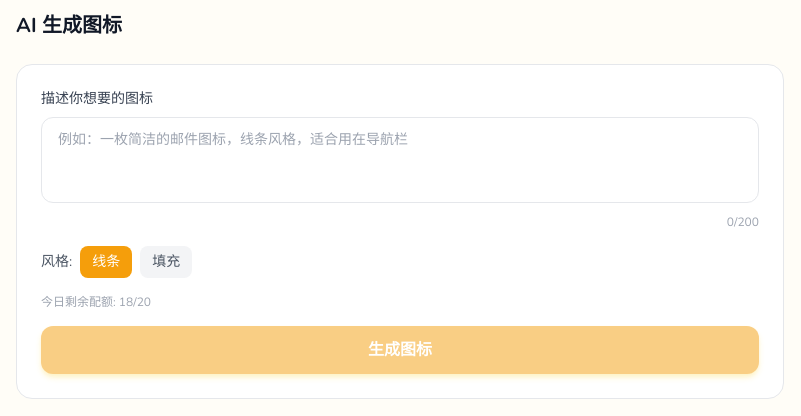
Test: AiGeneratePage › shows character count
The width and height of the screenshot is (801, 416).
Type "abc" into the text box with placeholder "例如：一枚简洁的邮件图标，线条风格，适合用在导航栏".
click(400, 160); type("abc")  # box [41,117,759,203]
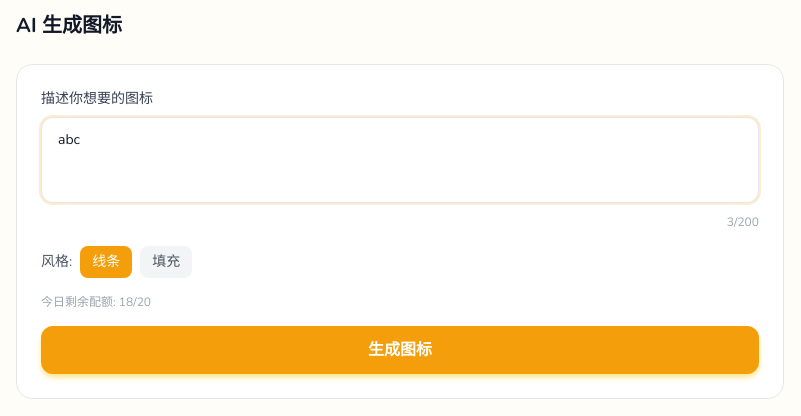
Now the text "3/200" is shown, box [727,214,759,230]
